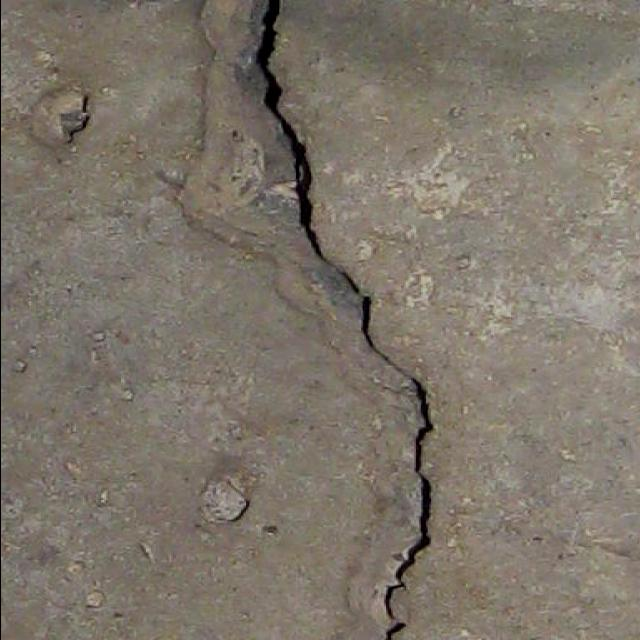crack: (248, 1, 436, 638)
